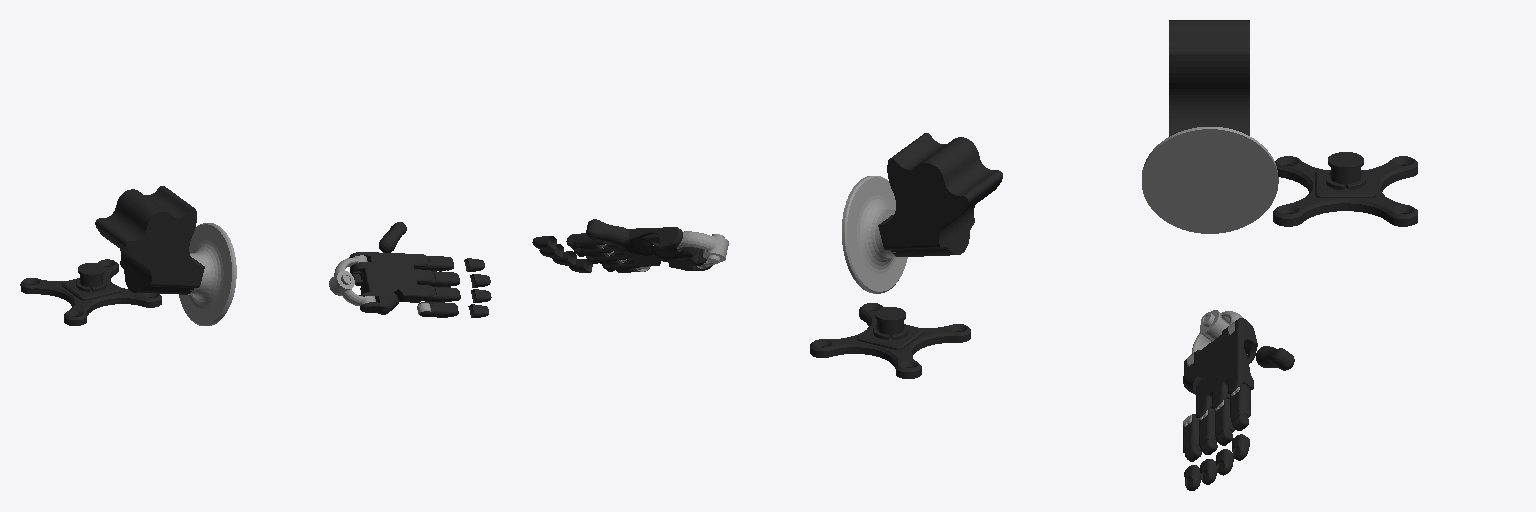
--- Facts derived from the render (not from the file) ---
3 views of the same robot in one strip: view 1: azimuth 30°, elevation 25°; view 2: azimuth 150°, elevation 25°; view 3: azimuth 270°, elevation 25° (orthographic).
Robot: arm_and_hand — 36 links, 35 joints (28 revolute, 7 fixed); root link world; default pose: all joints at 0 but 1 set to mid-range because 0 is outside their limits (ElbowJSwing = 1.31).
Visible links, largest first — view 1: shadowarm_lowerarm, shadowarm_handsupport, palm, shadowarm_base, wrist; view 2: shadowarm_lowerarm, shadowarm_handsupport, shadowarm_base, palm, wrist, thmiddle; view 3: shadowarm_handsupport, shadowarm_lowerarm, shadowarm_base, palm, wrist, ffproximal, thmiddle, mfproximal, rfproximal, lfproximal.
Link boxes in pixels (<box>): shadowarm_lowerarm: <box>95,186,204,294</box>; shadowarm_handsupport: <box>179,223,236,325</box>; palm: <box>349,252,434,314</box>; shadowarm_base: <box>20,259,161,325</box>; wrist: <box>329,255,375,305</box>; shadowarm_lowerarm: <box>878,133,1002,256</box>; shadowarm_handsupport: <box>842,176,907,293</box>; shadowarm_base: <box>810,303,970,378</box>; palm: <box>603,227,712,270</box>; wrist: <box>677,231,728,268</box>; thmiddle: <box>586,219,630,245</box>; shadowarm_handsupport: <box>1142,127,1278,233</box>; shadowarm_lowerarm: <box>1169,20,1249,136</box>; shadowarm_base: <box>1273,152,1417,226</box>; palm: <box>1183,318,1257,417</box>; wrist: <box>1187,310,1242,365</box>; ffproximal: <box>1230,383,1250,430</box>; thmiddle: <box>1256,346,1294,370</box>; mfproximal: <box>1215,398,1234,445</box>; rfproximal: <box>1199,407,1217,454</box>; lfproximal: <box>1183,414,1201,461</box>.
Bounding box of the posed robot: 0.6026 × 0.2728 × 0.2757 m (x, y, z).
18 mesh visuals loaded from 16 distinct referenced files (9 Collada DAE); not drawn: 10 (reference not matched to a file when rendering).

robot.urdf — arm_and_hand:
<?xml version="1.0" ?>
<!-- =================================================================================== -->
<!-- |    This document was autogenerated by xacro from src/srsim/sr_description/robots/arm_and_hand_motor.urdf.xacro | -->
<!-- |    EDITING THIS FILE BY HAND IS NOT RECOMMENDED                                 | -->
<!-- =================================================================================== -->
<robot name="arm_and_hand" xmlns:body="http://playerstage.sourceforge.net/gazebo/xmlschema/#body" xmlns:controller="http://playerstage.sourceforge.net/gazebo/xmlschema/#controller" xmlns:geom="http://playerstage.sourceforge.net/gazebo/xmlschema/#geom" xmlns:interface="http://playerstage.sourceforge.net/gazebo/xmlschema/#interface" xmlns:joint="http://playerstage.sourceforge.net/gazebo/xmlschema/#slider" xmlns:sensor="http://playerstage.sourceforge.net/gazebo/xmlschema/#sensor" xmlns:xacro="http://ros.org/wiki/xacro">
  <material name="Blue">
    <color rgba="0.0 0.0 0.8 1.0"/>
  </material>
  <material name="Green">
    <color rgba="0.0 0.8 0.0 1.0"/>
  </material>
  <material name="BiotacGreen">
    <color rgba="0.31 0.85 0.42 1.0"/>
  </material>
  <material name="Grey">
    <color rgba="0.2 0.2 0.2 1.0"/>
  </material>
  <material name="LightGrey">
    <color rgba="0.6 0.6 0.6 1.0"/>
  </material>
  <material name="Red">
    <color rgba="0.8 0.0 0.0 1.0"/>
  </material>
  <material name="White">
    <color rgba="1.0 1.0 1.0 1.0"/>
  </material>
  <link name="world"/>
  <joint name="arm_to_world_fixed" type="fixed">
    <parent link="world"/>
    <child link="shadowarm_base"/>
    <origin rpy="0 0 0" xyz="0 -1 1.0"/>
  </joint>
  <link name="shadowarm_base">
    <inertial>
      <origin rpy="0 0 0" xyz="0 0 0.0"/>
      <mass value="0.4"/>
      <inertia ixx="0.001" ixy="0.0" ixz="0.0" iyy="0.001" iyz="0.0" izz="0.001"/>
    </inertial>
    <visual>
      <origin rpy="0 0 0" xyz="0 0 0"/>
      <geometry name="shadowarm_visual">
        <mesh filename="package://sr_description/arm/model/arm_base.dae" scale="0.001 0.001 0.001"/>
      </geometry>
      <material name="Grey"/>
    </visual>
    <collision>
      <origin rpy="0 0 0" xyz="0 0 0.0"/>
      <geometry name="shadowarm_collision_geom">
        <mesh filename="package://sr_description/arm/model/arm_base.dae" scale="0.001 0.001 0.001"/>
      </geometry>
    </collision>
  </link>
  <gazebo reference="shadowarm_base">
    <material>Gazebo/Grey</material>
    <selfCollide>false</selfCollide>
  </gazebo>
  <link name="shadowarm_trunk">
    <inertial>
      <origin rpy="0 0 0" xyz="0 0 0.0"/>
      <mass value="0.5"/>
      <inertia ixx="0.001" ixy="0.0" ixz="0.0" iyy="0.001" iyz="0.0" izz="0.001"/>
    </inertial>
    <visual>
      <origin rpy="0 0 0" xyz="0 0 0.005"/>
      <geometry name="shadowarm_visual">
        <mesh filename="package://sr_description/arm/model/arm_trunk.dae" scale="0.001 0.001 0.001"/>
      </geometry>
      <material name="Grey"/>
    </visual>
    <collision>
      <origin rpy="0 0 0" xyz="0 0 0.005"/>
      <geometry name="shadowarm_collision_geom">
        <mesh filename="package://sr_description/arm/model/arm_trunk.dae" scale="0.001 0.001 0.001"/>
      </geometry>
    </collision>
  </link>
  <gazebo reference="shadowarm_trunk">
    <material>LightGrey</material>
    <selfCollide>false</selfCollide>
  </gazebo>
  <joint name="ShoulderJRotate" type="revolute">
    <parent link="shadowarm_base"/>
    <child link="shadowarm_trunk"/>
    <origin rpy="0.0 0.0 0.0" xyz="0 0 0.01"/>
    <axis xyz="0 0 1"/>
    <limit effort="1000.0" lower="-0.785398163397" upper="1.57079632679" velocity="10.0"/>
    <dynamics damping="30.0"/>
  </joint>
  <gazebo reference="ShoulderJRotate">
    <provideFeedback>1</provideFeedback>
    <implicitSpringDamper>1</implicitSpringDamper>
  </gazebo>
  <transmission name="trunk_rotation_transmission" type="sr_mechanism_model/SimpleTransmission">
    <actuator name="trunk_rotation"/>
    <joint name="ShoulderJRotate"/>
    <mechanicalReduction>1</mechanicalReduction>
    <motorTorqueConstant>1</motorTorqueConstant>
    <pulsesPerRevolution>90000</pulsesPerRevolution>
  </transmission>
  <link name="shadowarm_upperarm">
    <inertial>
      <origin rpy="0 0 0" xyz="0 0 0.0"/>
      <mass value="0.5"/>
      <inertia ixx="0.0001" ixy="0.0" ixz="0.0" iyy="0.0001" iyz="0.0" izz="0.0001"/>
    </inertial>
    <visual>
      <origin rpy="0 0 0" xyz="0 0.067 0"/>
      <geometry name="shadowarm_visual">
        <mesh filename="package://sr_description/arm/model/upper_arm.dae" scale="0.001 0.001 0.001"/>
      </geometry>
      <material name="Grey"/>
    </visual>
    <collision>
      <origin rpy="0 0 0" xyz="0 0.067 0"/>
      <geometry name="shadowarm_collision_geom">
        <mesh filename="package://sr_description/arm/model/upper_arm.dae" scale="0.001 0.001 0.001"/>
      </geometry>
    </collision>
  </link>
  <gazebo reference="shadowarm_upperarm">
    <material>LightGrey</material>
    <selfCollide>false</selfCollide>
  </gazebo>
  <joint name="ShoulderJSwing" type="revolute">
    <parent link="shadowarm_trunk"/>
    <child link="shadowarm_upperarm"/>
    <origin rpy="0 -3.14159265359 0.0" xyz="0 -0.134 0.5305"/>
    <!-- yaw=-0.026 -->
    <axis xyz="0 -1 0"/>
    <limit effort="1000.0" lower="0" upper="1.57079632679" velocity="10.0"/>
    <dynamics damping="30.0"/>
  </joint>
  <gazebo reference="ShoulderJSwing">
    <provideFeedback>1</provideFeedback>
    <implicitSpringDamper>1</implicitSpringDamper>
  </gazebo>
  <transmission name="shoulder_rotation_transmission" type="sr_mechanism_model/SimpleTransmission">
    <actuator name="shoulder_rotation"/>
    <joint name="ShoulderJSwing"/>
    <mechanicalReduction>1</mechanicalReduction>
    <motorTorqueConstant>1</motorTorqueConstant>
    <pulsesPerRevolution>90000</pulsesPerRevolution>
  </transmission>
  <link name="shadowarm_lowerarm">
    <inertial>
      <origin rpy="0 0 0" xyz="0 0 0"/>
      <mass value="0.5"/>
      <inertia ixx="0.0001" ixy="0.0" ixz="0.0" iyy="0.0001" iyz="0.0" izz="0.0001"/>
    </inertial>
    <visual>
      <origin rpy="0 0 0" xyz="0.03 0 0.036"/>
      <geometry name="shadowarm_visual">
        <mesh filename="package://sr_description/arm/model/elbow_flex.dae" scale="0.001 0.001 0.001"/>
      </geometry>
      <material name="Grey"/>
    </visual>
    <collision>
      <origin rpy="0 0 0" xyz="0.03 0 0.036"/>
      <geometry name="shadowarm_collision_geom">
        <mesh filename="package://sr_description/arm/model/elbow_flex.dae" scale="0.001 0.001 0.001"/>
      </geometry>
    </collision>
  </link>
  <gazebo reference="shadowarm_lowerarm">
    <material>LightGrey</material>
    <selfCollide>false</selfCollide>
  </gazebo>
  <joint name="ElbowJSwing" type="revolute">
    <parent link="shadowarm_upperarm"/>
    <child link="shadowarm_lowerarm"/>
    <origin rpy="0 0 0" xyz="0 0 0.369"/>
    <axis xyz="0 -1 0"/>
    <limit effort="1000.0" lower="0.52" upper="2.09439510239" velocity="10.0"/>
    <dynamics damping="20.0"/>
  </joint>
  <gazebo reference="ElbowJSwing">
    <provideFeedback>1</provideFeedback>
    <implicitSpringDamper>1</implicitSpringDamper>
  </gazebo>
  <transmission name="elbow_abduction_transmission" type="sr_mechanism_model/SimpleTransmission">
    <actuator name="elbow_abduction"/>
    <joint name="ElbowJSwing"/>
    <mechanicalReduction>1</mechanicalReduction>
    <motorTorqueConstant>1</motorTorqueConstant>
    <pulsesPerRevolution>90000</pulsesPerRevolution>
  </transmission>
  <link name="shadowarm_handsupport">
    <inertial>
      <origin rpy="0 0 0" xyz="0 0 0"/>
      <mass value="0.75"/>
      <inertia ixx="0.0001" ixy="0.0" ixz="0.0" iyy="0.0001" iyz="0.0" izz="0.0001"/>
    </inertial>
    <visual>
      <origin rpy="0 0 0" xyz="0 0 -0.04"/>
      <geometry name="shadowarm_handsupport_visual">
        <mesh filename="package://sr_description/arm/model/elbow_rotate_motor.dae" scale="0.001 0.001 0.001"/>
      </geometry>
      <material name="LightGrey"/>
    </visual>
    <collision>
      <origin rpy="0 0 0" xyz="0 0 -0.005"/>
      <geometry name="shadowarm_handsupport_collision">
        <cylinder length="0.001" radius="0.06"/>
      </geometry>
    </collision>
  </link>
  <gazebo reference="shadowarm_handsupport">
    <material>Gazebo/Grey</material>
    <selfCollide>false</selfCollide>
  </gazebo>
  <joint name="ElbowJRotate" type="revolute">
    <parent link="shadowarm_lowerarm"/>
    <child link="shadowarm_handsupport"/>
    <origin rpy="0.0 0 0" xyz="0.08 0 0.125"/>
    <axis xyz="0 0 -1"/>
    <limit effort="1000.0" lower="-1.57079632679" upper="1.57079632679" velocity="10.0"/>
    <dynamics damping="30.0"/>
  </joint>
  <gazebo reference="ElbowJRotate">
    <provideFeedback>1</provideFeedback>
    <implicitSpringDamper>1</implicitSpringDamper>
  </gazebo>
  <transmission name="forearm_rotation_transmission" type="sr_mechanism_model/SimpleTransmission">
    <actuator name="forearm_rotation"/>
    <joint name="ElbowJRotate"/>
    <mechanicalReduction>1</mechanicalReduction>
    <motorTorqueConstant>1</motorTorqueConstant>
    <pulsesPerRevolution>90000</pulsesPerRevolution>
  </transmission>
  <joint name="arm_link" type="fixed">
    <parent link="shadowarm_handsupport"/>
    <child link="forearm"/>
    <origin rpy="0 0 2.35619449" xyz="0 0 0"/>
  </joint>
  <link name="forearm">
    <inertial>
      <origin rpy="0 0 0" xyz="0 0 0.09"/>
      <mass value="3.0"/>
      <inertia ixx="0.001" ixy="0.0" ixz="0.0" iyy="0.001" iyz="0.0" izz="0.001"/>
    </inertial>
    <visual>
      <origin rpy="0 0 0" xyz="0 0 0"/>
      <geometry name="shadow_forearm_geom">
        <mesh filename="package://sr_description/hand/model/forearm.dae" scale="0.001 0.001 0.001"/>
      </geometry>
      <material name="Grey"/>
    </visual>
    <collision>
      <origin rpy="0 0 0" xyz="0 0 0.09"/>
      <geometry name="shadow_forearm_collision">
        <cylinder length="0.180" radius="0.06"/>
      </geometry>
    </collision>
  </link>
  <gazebo reference="forearm">
    <material>LightGrey</material>
    <selfCollide>false</selfCollide>
  </gazebo>
  <link name="wrist">
    <inertial>
      <origin rpy="0 0 0" xyz="0 0.0 0.0"/>
      <!--<insert_block name="origin" />-->
      <mass value="0.1"/>
      <inertia ixx="0.000120" ixy="0.0" ixz="0.0" iyy="0.000148" iyz="0.0" izz="0.0000438"/>
    </inertial>
    <visual>
      <origin rpy="0 0 0" xyz="0 0 0"/>
      <geometry name="wrist_visual">
        <mesh filename="package://sr_description/hand/model/wrist.dae" scale="0.001 0.001 0.001"/>
      </geometry>
      <material name="LightGrey"/>
    </visual>
    <collision>
      <origin rpy="0 0 0" xyz="0 0 0"/>
      <geometry name="wrist_collision_geom">
        <box size="0.02 0.02 0.02"/>
      </geometry>
    </collision>
  </link>
  <gazebo reference="wrist">
    <material>PR2/Grey2</material>
    <selfCollide>false</selfCollide>
  </gazebo>
  <joint name="WRJ2" type="revolute">
    <parent link="forearm"/>
    <child link="wrist"/>
    <!--<origin xyz="0 -0.010 0.213" rpy="0 0 0" />-->
    <origin rpy="0 0 0" xyz="0 -0.010 0.213"/>
    <axis xyz="0 1 0"/>
    <limit effort="1000.0" lower="-0.52359877559829882" upper="0.17453292519943295" velocity="10.0"/>
    <dynamics damping="30.0"/>
  </joint>
  <gazebo reference="WRJ2">
    <provideFeedback>1</provideFeedback>
    <implicitSpringDamper>1</implicitSpringDamper>
  </gazebo>
  <transmission name="wrist_transmission" type="sr_mechanism_model/SimpleTransmission">
    <actuator name="WRJ2"/>
    <joint name="WRJ2"/>
    <mechanicalReduction>1</mechanicalReduction>
    <motorTorqueConstant>1</motorTorqueConstant>
    <pulsesPerRevolution>90000</pulsesPerRevolution>
  </transmission>
  <link name="palm">
    <inertial>
      <origin rpy="0 0 0" xyz="0 0 0.035"/>
      <mass value="0.3"/>
      <inertia ixx="0.0001" ixy="0.0" ixz="0.0" iyy="0.0002" iyz="0.0" izz="0.0001"/>
    </inertial>
    <visual>
      <origin rpy="0 0 0" xyz="0 0 0"/>
      <geometry name="palm_visual">
        <mesh filename="package://sr_description/hand/model/palm.dae" scale="0.001 0.001 0.001"/>
      </geometry>
      <material name="Grey"/>
    </visual>
    <collision>
      <origin rpy="0 0 0" xyz="0.005 0 0.035"/>
      <geometry name="palm_collision_geom">
        <box size="0.05 0.02 0.07"/>
      </geometry>
    </collision>
  </link>
  <gazebo reference="palm">
    <sensor name="palm_contact" type="contact">
      <always_on>1</always_on>
      <update_rate>1000.0</update_rate>
      <contact>
        <collision>palm_collision</collision>
        <topic>palm_collision</topic>
      </contact>
      <plugin filename="libgazebo_ros_bumper.so" name="palm_gazebo_ros_bumper_controller">
        <updateRate>100.0</updateRate>
        <frameName>palm</frameName>
        <bumperTopicName>contacts/palm</bumperTopicName>
      </plugin>
    </sensor>
    <material>LightGrey</material>
  </gazebo>
  <joint name="WRJ1" type="revolute">
    <parent link="wrist"/>
    <child link="palm"/>
    <origin rpy="0 0 0" xyz="0 0 0.034"/>
    <axis xyz="1 0 0"/>
    <limit effort="1000.0" lower="-0.7854" upper="0.5236" velocity="10.0"/>
    <dynamics damping="30.0"/>
  </joint>
  <gazebo reference="WRJ1">
    <provideFeedback>1</provideFeedback>
    <implicitSpringDamper>1</implicitSpringDamper>
  </gazebo>
  <gazebo reference="palm">
    <soft_contact>
      <dart>
        <flesh_mass_fraction>0.5</flesh_mass_fraction>
        <bone_attachment>500.0</bone_attachment>
        <stiffness>0.0</stiffness>
        <damping>5.0</damping>
      </dart>
    </soft_contact>
  </gazebo>
  <transmission name="palm_transmission" type="sr_mechanism_model/SimpleTransmission">
    <actuator name="WRJ1"/>
    <joint name="WRJ1"/>
    <mechanicalReduction>1</mechanicalReduction>
    <motorTorqueConstant>1</motorTorqueConstant>
    <pulsesPerRevolution>90000</pulsesPerRevolution>
  </transmission>
  <link name="ffknuckle">
    <inertial>
      <origin rpy="0 0 0" xyz="0 0 0"/>
      <!--<insert_block name="origin" /> -->
      <mass value="0.008"/>
      <inertia ixx="0.0000002" ixy="0.0" ixz="0.0" iyy="0.0000002" iyz="0.0" izz="0.0000002"/>
    </inertial>
    <visual>
      <origin rpy="0 0 0" xyz="0 0 0.0005"/>
      <geometry name="ffknuckle_visual">
        <mesh filename="package://sr_description/hand/model/knuckle.dae" scale="0.001 0.001 0.001"/>
      </geometry>
      <material name="LightGrey"/>
    </visual>
    <collision>
      <origin rpy="0 0 0" xyz="0 0 0"/>
      <geometry name="ffknuckle_collision_geom">
        <box size="0.005 0.005 0.005"/>
      </geometry>
    </collision>
  </link>
  <gazebo reference="ffknuckle">
    <sensor name="ffknuckle_contact" type="contact">
      <always_on>1</always_on>
      <update_rate>1000.0</update_rate>
      <contact>
        <collision>ffknuckle_collision</collision>
        <topic>ffknuckle_collision</topic>
      </contact>
      <plugin filename="libgazebo_ros_bumper.so" name="ffknuckle_gazebo_ros_bumper_controller">
        <updateRate>100.0</updateRate>
        <frameName>ffknuckle</frameName>
        <bumperTopicName>contacts/ff/knuckle</bumperTopicName>
      </plugin>
    </sensor>
    <material>Gazebo/Grey</material>
  </gazebo>
  <joint name="FFJ4" type="revolute">
    <parent link="palm"/>
    <child link="ffknuckle"/>
    <!--<origin xyz="0.033 0 0.095" rpy="0 0 0" />-->
    <origin rpy="0 0 0" xyz="0.033 0 0.095"/>
    <axis xyz="0 -1 0"/>
    <limit effort="1000.0" lower="-0.3491" upper="0.3491" velocity="10.0"/>
    <dynamics damping="10.0"/>
  </joint>
  <gazebo reference="FFJ4">
    <provideFeedback>1</provideFeedback>
    <implicitSpringDamper>1</implicitSpringDamper>
  </gazebo>
  <transmission name="ffknuckle_transmission" type="sr_mechanism_model/SimpleTransmission">
    <actuator name="FFJ4"/>
    <joint name="FFJ4"/>
    <mechanicalReduction>1</mechanicalReduction>
    <motorTorqueConstant>1</motorTorqueConstant>
    <pulsesPerRevolution>90000</pulsesPerRevolution>
  </transmission>
  <link name="ffproximal">
    <inertial>
      <mass value="0.014"/>
      <origin xyz="0 0 0.0225"/>
      <inertia ixx="0.0000010" ixy="0.0" ixz="0.0" iyy="0.0000010" iyz="0.0" izz="0.0000005"/>
    </inertial>
    <visual>
      <origin rpy="0 0 0" xyz="0 0 0"/>
      <geometry name="proximal_visual">
        <mesh filename="package://sr_description/hand/model/F3.dae" scale="0.001 0.001 0.001"/>
      </geometry>
      <material name="Grey"/>
    </visual>
    <collision>
      <origin rpy="0 0 0 " xyz="0 0 0.025"/>
      <geometry name="proximal_collision_geom">
        <box size="0.008 0.008 0.04"/>
      </geometry>
    </collision>
  </link>
  <gazebo reference="ffproximal">
    <sensor name="ffproximal_contact" type="contact">
      <always_on>1</always_on>
      <update_rate>1000.0</update_rate>
      <contact>
        <collision>ffproximal_collision</collision>
        <topic>ffproximal_collision</topic>
      </contact>
      <plugin filename="libgazebo_ros_bumper.so" name="ffproximal_gazebo_ros_bumper_controller">
        <updateRate>100.0</updateRate>
        <frameName>ffproximal</frameName>
        <bumperTopicName>contacts/ff/proximal</bumperTopicName>
      </plugin>
    </sensor>
    <material>LightGrey</material>
  </gazebo>
  <joint name="FFJ3" type="revolute">
    <parent link="ffknuckle"/>
    <child link="ffproximal"/>
    <origin rpy="0 0 0" xyz="0 0 0"/>
    <axis xyz="1 0 0"/>
    <limit effort="1000.0" lower="0" upper="1.57079632679" velocity="10.0"/>
    <dynamics damping="10.0"/>
  </joint>
  <gazebo reference="FFJ3">
    <provideFeedback>1</provideFeedback>
    <implicitSpringDamper>1</implicitSpringDamper>
  </gazebo>
  <transmission name="ffproximal_transmission" type="sr_mechanism_model/SimpleTransmission">
    <actuator name="FFJ3"/>
    <joint name="FFJ3"/>
    <mechanicalReduction>1</mechanicalReduction>
    <motorTorqueConstant>1</motorTorqueConstant>
    <pulsesPerRevolution>90000</pulsesPerRevolution>
  </transmission>
  <link name="ffmiddle">
    <inertial>
      <origin rpy="0 0 0" xyz="0 0 0.0125"/>
      <mass value="0.012"/>
      <inertia ixx="0.0000008" ixy="0.0" ixz="0.0" iyy="0.0000008" iyz="0.0" izz="0.0000003"/>
    </inertial>
    <visual>
      <origin rpy="0 0 0" xyz="0 0 0"/>
      <geometry name="ffmiddle_visual">
        <mesh filename="package://sr_description/hand/model/F2.dae" scale="0.001 0.001 0.001"/>
      </geometry>
      <material name="Grey"/>
    </visual>
    <collision>
      <origin rpy="0 0 0" xyz="0 0 0.0125"/>
      <geometry name="ffmiddle_collision_geom">
        <box size="0.008 0.008 0.015"/>
      </geometry>
    </collision>
  </link>
  <gazebo reference="ffmiddle">
    <sensor name="ffmiddle_contact" type="contact">
      <always_on>1</always_on>
      <update_rate>1000.0</update_rate>
      <contact>
        <collision>ffmiddle_collision</collision>
        <topic>ffmiddle_collision</topic>
      </contact>
      <plugin filename="libgazebo_ros_bumper.so" name="ffmiddle_gazebo_ros_bumper_controller">
        <updateRate>100.0</updateRate>
        <frameName>ffmiddle</frameName>
        <bumperTopicName>contacts/ff/middle</bumperTopicName>
      </plugin>
    </sensor>
    <material>LightGrey</material>
  </gazebo>
  <joint name="FFJ2" type="revolute">
    <parent link="ffproximal"/>
    <child link="ffmiddle"/>
    <origin rpy="0 0 0" xyz="0 0 0.045"/>
    <axis xyz="1 0 0"/>
    <limit effort="1000.0" lower="0" upper="1.57079632679" velocity="10.0"/>
    <dynamics damping="10.0"/>
  </joint>
  <gazebo reference="FFJ2">
    <provideFeedback>1</provideFeedback>
    <implicitSpringDamper>1</implicitSpringDamper>
  </gazebo>
  <transmission name="ffmiddle_transmission" type="sr_mechanism_model/J0Transmission">
    <actuator name="FFJ0"/>
    <joint1 name="FFJ1"/>
    <joint2 name="FFJ2"/>
    <mechanicalReduction>1</mechanicalReduction>
    <motorTorqueConstant>1</motorTorqueConstant>
    <pulsesPerRevolution>90000</pulsesPerRevolution>
  </transmission>
  <link name="ffdistal">
    <inertial>
      <mass value="0.010"/>
      <origin xyz="0 0 0.013"/>
      <inertia ixx="0.0000001" ixy="0.0" ixz="0.0" iyy="0.0000001" iyz="0.0" izz="0.0000001"/>
    </inertial>
    <visual>
      <origin rpy="0 0 0" xyz="0 0 0"/>
      <geometry name="ffdistal_visual">
        <mesh filename="package://sr_description/hand/model/F1.dae" scale="0.001 0.001 0.001"/>
      </geometry>
      <material name="Grey"/>
    </visual>
    <collision>
      <origin rpy="0 0 0" xyz="0 0 0"/>
      <geometry name="ffdistal_collision_geom">
        <mesh filename="package://sr_description/hand/model/F1.dae" scale="0.001 0.001 0.001"/>
      </geometry>
    </collision>
  </link>
  <gazebo reference="ffdistal">
    <sensor name="ffdistal_contact" type="contact">
      <always_on>1</always_on>
      <update_rate>1000.0</update_rate>
      <contact>
        <collision>ffdistal_collision</collision>
        <topic>ffdistal_collision</topic>
      </contact>
      <plugin filename="libgazebo_ros_bumper.so" name="ffdistal_gazebo_ros_bumper_controller">
        <updateRate>100.0</updateRate>
        <frameName>ffdistal</frameName>
        <bumperTopicName>contacts/ff/distal</bumperTopicName>
      </plugin>
    </sensor>
    <selfCollide>true</selfCollide>
    <material>LightGrey</material>
  </gazebo>
  <joint name="FFJ1" type="revolute">
    <parent link="ffmiddle"/>
    <child link="ffdistal"/>
    <origin rpy="0 0 0" xyz="0 0 0.025"/>
    <axis xyz="1 0 0"/>
    <limit effort="1000.0" lower="0" upper="1.57079632679" velocity="10.0"/>
    <dynamics damping="10.0"/>
  </joint>
  <gazebo reference="FFJ1">
    <provideFeedback>1</provideFeedback>
    <implicitSpringDamper>1</implicitSpringDamper>
  </gazebo>
  <link name="fftip">
    <inertial>
      <mass value="0.001"/>
      <inertia ixx="0.0000001" ixy="0.0" ixz="0.0" iyy="0.0000001" iyz="0.0" izz="0.0000001"/>
    </inertial>
  </link>
  <joint name="FFtip" type="fixed">
    <parent link="ffdistal"/>
    <child link="fftip"/>
    <origin rpy="0 0 0" xyz="0 0 0.026"/>
  </joint>
  <link name="mfknuckle">
    <inertial>
      <origin rpy="0 0 0" xyz="0 0 0"/>
      <!--<insert_block name="origin" /> -->
      <mass value="0.008"/>
      <inertia ixx="0.0000002" ixy="0.0" ixz="0.0" iyy="0.0000002" iyz="0.0" izz="0.0000002"/>
    </inertial>
    <visual>
      <origin rpy="0 0 0" xyz="0 0 0.0005"/>
      <geometry name="mfknuckle_visual">
        <mesh filename="package://sr_description/hand/model/knuckle.dae" scale="0.001 0.001 0.001"/>
      </geometry>
      <material name="LightGrey"/>
    </visual>
    <collision>
      <origin rpy="0 0 0" xyz="0 0 0"/>
      <geometry name="mfknuckle_collision_geom">
        <box size="0.005 0.005 0.005"/>
      </geometry>
    </collision>
  </link>
  <gazebo reference="mfknuckle">
    <sensor name="mfknuckle_contact" type="contact">
      <always_on>1</always_on>
      <update_rate>1000.0</update_rate>
      <contact>
        <collision>mfknuckle_collision</collision>
        <topic>mfknuckle_collision</topic>
      </contact>
      <plugin filename="libgazebo_ros_bumper.so" name="mfknuckle_gazebo_ros_bumper_controller">
        <updateRate>100.0</updateRate>
        <frameName>mfknuckle</frameName>
        <bumperTopicName>contacts/mf/knuckle</bumperTopicName>
      </plugin>
    </sensor>
    <material>Gazebo/Grey</material>
  </gazebo>
  <joint name="MFJ4" type="revolute">
    <parent link="palm"/>
    <child link="mfknuckle"/>
    <!--<origin xyz="0.033 0 0.095" rpy="0 0 0" />-->
    <origin rpy="0 0 0" xyz="0.011 0 0.099"/>
    <axis xyz="0 -1 0"/>
    <limit effort="1000.0" lower="-0.3491" upper="0.3491" velocity="10.0"/>
    <dynamics damping="10.0"/>
  </joint>
  <gazebo reference="MFJ4">
    <provideFeedback>1</provideFeedback>
    <implicitSpringDamper>1</implicitSpringDamper>
  </gazebo>
  <transmission name="mfknuckle_transmission" type="sr_mechanism_model/SimpleTransmission">
    <actuator name="MFJ4"/>
    <joint name="MFJ4"/>
    <mechanicalReduction>1</mechanicalReduction>
    <motorTorqueConstant>1</motorTorqueConstant>
    <pulsesPerRevolution>90000</pulsesPerRevolution>
  </transmission>
  <link name="mfproximal">
    <inertial>
      <mass value="0.014"/>
      <origin xyz="0 0 0.0225"/>
      <inertia ixx="0.0000010" ixy="0.0" ixz="0.0" iyy="0.0000010" iyz="0.0" izz="0.0000005"/>
    </inertial>
    <visual>
      <origin rpy="0 0 0" xyz="0 0 0"/>
      <geometry name="proximal_visual">
        <mesh filename="package://sr_description/hand/model/F3.dae" scale="0.001 0.001 0.001"/>
      </geometry>
      <material name="Grey"/>
    </visual>
    <collision>
      <origin rpy="0 0 0 " xyz="0 0 0.025"/>
      <geometry name="proximal_collision_geom">
        <box size="0.008 0.008 0.04"/>
      </geometry>
    </collision>
  </link>
  <gazebo reference="mfproximal">
    <sensor name="mfproximal_contact" type="contact">
      <always_on>1</always_on>
      <update_rate>1000.0</update_rate>
      <contact>
        <collision>mfproximal_collision</collision>
        <topic>mfproximal_collision</topic>
      </contact>
      <plugin filename="libgazebo_ros_bumper.so" name="mfproximal_gazebo_ros_bumper_controller">
        <updateRate>100.0</updateRate>
        <frameName>mfproximal</frameName>
        <bumperTopicName>contacts/mf/proximal</bumperTopicName>
      </plugin>
    </sensor>
    <material>LightGrey</material>
  </gazebo>
  <joint name="MFJ3" type="revolute">
    <parent link="mfknuckle"/>
    <child link="mfproximal"/>
    <origin rpy="0 0 0" xyz="0 0 0"/>
    <axis xyz="1 0 0"/>
    <limit effort="1000.0" lower="0" upper="1.57079632679" velocity="10.0"/>
    <dynamics damping="10.0"/>
  </joint>
  <gazebo reference="MFJ3">
    <provideFeedback>1</provideFeedback>
    <implicitSpringDamper>1</implicitSpringDamper>
  </gazebo>
  <transmission name="mfproximal_transmission" type="sr_mechanism_model/SimpleTransmission">
    <actuator name="MFJ3"/>
    <joint name="MFJ3"/>
    <mechanicalReduction>1</mechanicalReduction>
    <motorTorqueConstant>1</motorTorqueConstant>
    <pulsesPerRevolution>90000</pulsesPerRevolution>
  </transmission>
  <link name="mfmiddle">
    <inertial>
      <origin rpy="0 0 0" xyz="0 0 0.0125"/>
      <mass value="0.012"/>
      <inertia ixx="0.0000008" ixy="0.0" ixz="0.0" iyy="0.0000008" iyz="0.0" izz="0.0000003"/>
    </inertial>
    <visual>
      <origin rpy="0 0 0" xyz="0 0 0"/>
      <geometry name="mfmiddle_visual">
        <mesh filename="package://sr_description/hand/model/F2.dae" scale="0.001 0.001 0.001"/>
      </geometry>
      <material name="Grey"/>
    </visual>
    <collision>
      <origin rpy="0 0 0" xyz="0 0 0.0125"/>
      <geometry name="mfmiddle_collision_geom">
        <box size="0.008 0.008 0.015"/>
      </geometry>
    </collision>
  </link>
  <gazebo reference="mfmiddle">
    <sensor name="mfmiddle_contact" type="contact">
      <always_on>1</always_on>
      <update_rate>1000.0</update_rate>
      <contact>
        <collision>mfmiddle_collision</collision>
        <topic>mfmiddle_collision</topic>
      </contact>
      <plugin filename="libgazebo_ros_bumper.so" name="mfmiddle_gazebo_ros_bumper_controller">
        <updateRate>100.0</updateRate>
        <frameName>mfmiddle</frameName>
        <bumperTopicName>contacts/mf/middle</bumperTopicName>
      </plugin>
    </sensor>
    <material>LightGrey</material>
  </gazebo>
  <joint name="MFJ2" type="revolute">
    <parent link="mfproximal"/>
    <child link="mfmiddle"/>
    <origin rpy="0 0 0" xyz="0 0 0.045"/>
    <axis xyz="1 0 0"/>
    <limit effort="1000.0" lower="0" upper="1.57079632679" velocity="10.0"/>
    <dynamics damping="10.0"/>
  </joint>
  <gazebo reference="MFJ2">
    <provideFeedback>1</provideFeedback>
    <implicitSpringDamper>1</implicitSpringDamper>
  </gazebo>
  <transmission name="mfmiddle_transmission" type="sr_mechanism_model/J0Transmission">
    <actuator name="MFJ0"/>
    <joint1 name="MFJ1"/>
    <joint2 name="MFJ2"/>
    <mechanicalReduction>1</mechanicalReduction>
    <motorTorqueConstant>1</motorTorqueConstant>
    <pulsesPerRevolution>90000</pulsesPerRevolution>
  </transmission>
  <link name="mfdistal">
    <inertial>
      <mass value="0.010"/>
      <origin xyz="0 0 0.013"/>
      <inertia ixx="0.0000001" ixy="0.0" ixz="0.0" iyy="0.0000001" iyz="0.0" izz="0.0000001"/>
    </inertial>
    <visual>
      <origin rpy="0 0 0" xyz="0 0 0"/>
      <geometry name="mfdistal_visual">
        <mesh filename="package://sr_description/hand/model/F1.dae" scale="0.001 0.001 0.001"/>
      </geometry>
      <material name="Grey"/>
    </visual>
    <collision>
      <origin rpy="0 0 0" xyz="0 0 0"/>
      <geometry name="mfdistal_collision_geom">
        <mesh filename="package://sr_description/hand/model/F1.dae" scale="0.001 0.001 0.001"/>
      </geometry>
    </collision>
  </link>
  <gazebo reference="mfdistal">
    <sensor name="mfdistal_contact" type="contact">
      <always_on>1</always_on>
      <update_rate>1000.0</update_rate>
      <contact>
        <collision>mfdistal_collision</collision>
        <topic>mfdistal_collision</topic>
      </contact>
      <plugin filename="libgazebo_ros_bumper.so" name="mfdistal_gazebo_ros_bumper_controller">
        <updateRate>100.0</updateRate>
        <frameName>mfdistal</frameName>
        <bumperTopicName>contacts/mf/distal</bumperTopicName>
      </plugin>
    </sensor>
    <selfCollide>true</selfCollide>
    <material>LightGrey</material>
  </gazebo>
  <joint name="MFJ1" type="revolute">
    <parent link="mfmiddle"/>
    <child link="mfdistal"/>
    <origin rpy="0 0 0" xyz="0 0 0.025"/>
    <axis xyz="1 0 0"/>
    <limit effort="1000.0" lower="0" upper="1.57079632679" velocity="10.0"/>
    <dynamics damping="10.0"/>
  </joint>
  <gazebo reference="MFJ1">
    <provideFeedback>1</provideFeedback>
    <implicitSpringDamper>1</implicitSpringDamper>
  </gazebo>
  <link name="mftip">
    <inertial>
      <mass value="0.001"/>
      <inertia ixx="0.0000001" ixy="0.0" ixz="0.0" iyy="0.0000001" iyz="0.0" izz="0.0000001"/>
    </inertial>
  </link>
  <joint name="MFtip" type="fixed">
    <parent link="mfdistal"/>
    <child link="mftip"/>
    <origin rpy="0 0 0" xyz="0 0 0.026"/>
  </joint>
  <link name="rfknuckle">
    <inertial>
      <origin rpy="0 0 0" xyz="0 0 0"/>
      <!--<insert_block name="origin" /> -->
      <mass value="0.008"/>
      <inertia ixx="0.0000002" ixy="0.0" ixz="0.0" iyy="0.0000002" iyz="0.0" izz="0.0000002"/>
    </inertial>
    <visual>
      <origin rpy="0 0 0" xyz="0 0 0.0005"/>
      <geometry name="rfknuckle_visual">
        <mesh filename="package://sr_description/hand/model/knuckle.dae" scale="0.001 0.001 0.001"/>
      </geometry>
      <material name="LightGrey"/>
    </visual>
    <collision>
      <origin rpy="0 0 0" xyz="0 0 0"/>
      <geometry name="rfknuckle_collision_geom">
        <box size="0.005 0.005 0.005"/>
      </geometry>
    </collision>
  </link>
  <gazebo reference="rfknuckle">
    <sensor name="rfknuckle_contact" type="contact">
      <always_on>1</always_on>
      <update_rate>1000.0</update_rate>
      <contact>
        <collision>rfknuckle_collision</collision>
        <topic>rfknuckle_collision</topic>
      </contact>
      <plugin filename="libgazebo_ros_bumper.so" name="rfknuckle_gazebo_ros_bumper_controller">
        <updateRate>100.0</updateRate>
        <frameName>rfknuckle</frameName>
        <bumperTopicName>contacts/rf/knuckle</bumperTopicName>
      </plugin>
    </sensor>
    <material>Gazebo/Grey</material>
  </gazebo>
  <joint name="RFJ4" type="revolute">
    <parent link="palm"/>
    <child link="rfknuckle"/>
    <!--<origin xyz="0.033 0 0.095" rpy="0 0 0" />-->
    <origin rpy="0 0 0" xyz="-0.011 0 0.095"/>
    <axis xyz="0 1 0"/>
    <limit effort="1000.0" lower="-0.3491" upper="0.3491" velocity="10.0"/>
    <dynamics damping="10.0"/>
  </joint>
  <gazebo reference="RFJ4">
    <provideFeedback>1</provideFeedback>
    <implicitSpringDamper>1</implicitSpringDamper>
  </gazebo>
  <transmission name="rfknuckle_transmission" type="sr_mechanism_model/SimpleTransmission">
    <actuator name="RFJ4"/>
    <joint name="RFJ4"/>
    <mechanicalReduction>1</mechanicalReduction>
    <motorTorqueConstant>1</motorTorqueConstant>
    <pulsesPerRevolution>90000</pulsesPerRevolution>
  </transmission>
  <link name="rfproximal">
    <inertial>
      <mass value="0.014"/>
      <origin xyz="0 0 0.0225"/>
      <inertia ixx="0.0000010" ixy="0.0" ixz="0.0" iyy="0.0000010" iyz="0.0" izz="0.0000005"/>
    </inertial>
    <visual>
      <origin rpy="0 0 0" xyz="0 0 0"/>
      <geometry name="proximal_visual">
        <mesh filename="package://sr_description/hand/model/F3.dae" scale="0.001 0.001 0.001"/>
      </geometry>
      <material name="Grey"/>
    </visual>
    <collision>
      <origin rpy="0 0 0 " xyz="0 0 0.025"/>
      <geometry name="proximal_collision_geom">
        <box size="0.008 0.008 0.04"/>
      </geometry>
    </collision>
  </link>
  <gazebo reference="rfproximal">
    <sensor name="rfproximal_contact" type="contact">
      <always_on>1</always_on>
      <update_rate>1000.0</update_rate>
      <contact>
        <collision>rfproximal_collision</collision>
        <topic>rfproximal_collision</topic>
      </contact>
      <plugin filename="libgazebo_ros_bumper.so" name="rfproximal_gazebo_ros_bumper_controller">
        <updateRate>100.0</updateRate>
        <frameName>rfproximal</frameName>
        <bumperTopicName>contacts/rf/proximal</bumperTopicName>
      </plugin>
    </sensor>
    <material>LightGrey</material>
  </gazebo>
  <joint name="RFJ3" type="revolute">
    <parent link="rfknuckle"/>
    <child link="rfproximal"/>
    <origin rpy="0 0 0" xyz="0 0 0"/>
    <axis xyz="1 0 0"/>
    <limit effort="1000.0" lower="0" upper="1.57079632679" velocity="10.0"/>
    <dynamics damping="10.0"/>
  </joint>
  <gazebo reference="RFJ3">
    <provideFeedback>1</provideFeedback>
    <implicitSpringDamper>1</implicitSpringDamper>
  </gazebo>
  <transmission name="rfproximal_transmission" type="sr_mechanism_model/SimpleTransmission">
    <actuator name="RFJ3"/>
    <joint name="RFJ3"/>
    <mechanicalReduction>1</mechanicalReduction>
    <motorTorqueConstant>1</motorTorqueConstant>
    <pulsesPerRevolution>90000</pulsesPerRevolution>
  </transmission>
  <link name="rfmiddle">
    <inertial>
      <origin rpy="0 0 0" xyz="0 0 0.0125"/>
      <mass value="0.012"/>
      <inertia ixx="0.0000008" ixy="0.0" ixz="0.0" iyy="0.0000008" iyz="0.0" izz="0.0000003"/>
    </inertial>
    <visual>
      <origin rpy="0 0 0" xyz="0 0 0"/>
      <geometry name="rfmiddle_visual">
        <mesh filename="package://sr_description/hand/model/F2.dae" scale="0.001 0.001 0.001"/>
      </geometry>
      <material name="Grey"/>
    </visual>
    <collision>
      <origin rpy="0 0 0" xyz="0 0 0.0125"/>
      <geometry name="rfmiddle_collision_geom">
        <box size="0.008 0.008 0.015"/>
      </geometry>
    </collision>
  </link>
  <gazebo reference="rfmiddle">
    <sensor name="rfmiddle_contact" type="contact">
      <always_on>1</always_on>
      <update_rate>1000.0</update_rate>
      <contact>
        <collision>rfmiddle_collision</collision>
        <topic>rfmiddle_collision</topic>
      </contact>
      <plugin filename="libgazebo_ros_bumper.so" name="rfmiddle_gazebo_ros_bumper_controller">
        <updateRate>100.0</updateRate>
        <frameName>rfmiddle</frameName>
        <bumperTopicName>contacts/rf/middle</bumperTopicName>
      </plugin>
    </sensor>
    <material>LightGrey</material>
  </gazebo>
  <joint name="RFJ2" type="revolute">
    <parent link="rfproximal"/>
    <child link="rfmiddle"/>
    <origin rpy="0 0 0" xyz="0 0 0.045"/>
    <axis xyz="1 0 0"/>
    <limit effort="1000.0" lower="0" upper="1.57079632679" velocity="10.0"/>
    <dynamics damping="10.0"/>
  </joint>
  <gazebo reference="RFJ2">
    <provideFeedback>1</provideFeedback>
    <implicitSpringDamper>1</implicitSpringDamper>
  </gazebo>
  <transmission name="rfmiddle_transmission" type="sr_mechanism_model/J0Transmission">
    <actuator name="RFJ0"/>
    <joint1 name="RFJ1"/>
    <joint2 name="RFJ2"/>
    <mechanicalReduction>1</mechanicalReduction>
    <motorTorqueConstant>1</motorTorqueConstant>
    <pulsesPerRevolution>90000</pulsesPerRevolution>
  </transmission>
  <link name="rfdistal">
    <inertial>
      <mass value="0.010"/>
      <origin xyz="0 0 0.013"/>
      <inertia ixx="0.0000001" ixy="0.0" ixz="0.0" iyy="0.0000001" iyz="0.0" izz="0.0000001"/>
    </inertial>
    <visual>
      <origin rpy="0 0 0" xyz="0 0 0"/>
      <geometry name="rfdistal_visual">
        <mesh filename="package://sr_description/hand/model/F1.dae" scale="0.001 0.001 0.001"/>
      </geometry>
      <material name="Grey"/>
    </visual>
    <collision>
      <origin rpy="0 0 0" xyz="0 0 0"/>
      <geometry name="rfdistal_collision_geom">
        <mesh filename="package://sr_description/hand/model/F1.dae" scale="0.001 0.001 0.001"/>
      </geometry>
    </collision>
  </link>
  <gazebo reference="rfdistal">
    <sensor name="rfdistal_contact" type="contact">
      <always_on>1</always_on>
      <update_rate>1000.0</update_rate>
      <contact>
        <collision>rfdistal_collision</collision>
        <topic>rfdistal_collision</topic>
      </contact>
      <plugin filename="libgazebo_ros_bumper.so" name="rfdistal_gazebo_ros_bumper_controller">
        <updateRate>100.0</updateRate>
        <frameName>rfdistal</frameName>
        <bumperTopicName>contacts/rf/distal</bumperTopicName>
      </plugin>
    </sensor>
    <selfCollide>true</selfCollide>
    <material>LightGrey</material>
  </gazebo>
  <joint name="RFJ1" type="revolute">
    <parent link="rfmiddle"/>
    <child link="rfdistal"/>
    <origin rpy="0 0 0" xyz="0 0 0.025"/>
    <axis xyz="1 0 0"/>
    <limit effort="1000.0" lower="0" upper="1.57079632679" velocity="10.0"/>
    <dynamics damping="10.0"/>
  </joint>
  <gazebo reference="RFJ1">
    <provideFeedback>1</provideFeedback>
    <implicitSpringDamper>1</implicitSpringDamper>
  </gazebo>
  <link name="rftip">
    <inertial>
      <mass value="0.001"/>
      <inertia ixx="0.0000001" ixy="0.0" ixz="0.0" iyy="0.0000001" iyz="0.0" izz="0.0000001"/>
    </inertial>
  </link>
  <joint name="RFtip" type="fixed">
    <parent link="rfdistal"/>
    <child link="rftip"/>
    <origin rpy="0 0 0" xyz="0 0 0.026"/>
  </joint>
  <link name="lfmetacarpal">
    <inertial>
      <origin rpy="0 0 0" xyz="0 0 0.04"/>
      <mass value="0.075"/>
      <inertia ixx="5e-6" ixy="0.0" ixz="0.0" iyy="5e-6" iyz="0.0" izz="3e-6"/>
    </inertial>
    <visual>
      <origin rpy="0 0 0" xyz="0 0 0"/>
      <geometry name="lfmetacarpal_visual">
        <mesh filename="package://sr_description/hand/model/lfmetacarpal.dae" scale="0.001 0.001 0.001"/>
      </geometry>
      <material name="Grey"/>
    </visual>
    <collision>
      <origin rpy="0 0 0" xyz="0 0 0.04"/>
      <geometry name="lfmetacarpal_collision_geom">
        <box size="0.008 0.008 0.03"/>
      </geometry>
    </collision>
  </link>
  <gazebo reference="lfmetacarpal">
    <sensor name="lfmetacarpal_contact" type="contact">
      <always_on>1</always_on>
      <update_rate>1000.0</update_rate>
      <contact>
        <collision>lfmetacarpal_collision</collision>
        <topic>lfmetacarpal_collision</topic>
      </contact>
      <plugin filename="libgazebo_ros_bumper.so" name="lfmetacarpal_gazebo_ros_bumper_controller">
        <updateRate>100.0</updateRate>
        <frameName>lfmetacarpal</frameName>
        <bumperTopicName>contacts/lf/metacarpal</bumperTopicName>
      </plugin>
    </sensor>
    <material>LightGrey</material>
  </gazebo>
  <joint name="LFJ5" type="revolute">
    <parent link="palm"/>
    <child link="lfmetacarpal"/>
    <origin rpy="0 0 0" xyz="-0.033 0 0.02071"/>
    <axis xyz="0.573576436 0 0.819152044"/>
    <limit effort="1000.0" lower="0" upper="0.785398163" velocity="10.0"/>
    <dynamics damping="10.0"/>
  </joint>
  <gazebo reference="LFJ5">
    <provideFeedback>1</provideFeedback>
    <implicitSpringDamper>1</implicitSpringDamper>
  </gazebo>
  <transmission name="lfmetacarpal_transmission" type="sr_mechanism_model/SimpleTransmission">
    <actuator name="LFJ5"/>
    <joint name="LFJ5"/>
    <mechanicalReduction>1</mechanicalReduction>
    <motorTorqueConstant>1</motorTorqueConstant>
    <pulsesPerRevolution>90000</pulsesPerRevolution>
  </transmission>
  <link name="lfknuckle">
    <inertial>
      <origin rpy="0 0 0" xyz="0 0 0"/>
      <!--<insert_block name="origin" /> -->
      <mass value="0.008"/>
      <inertia ixx="0.0000002" ixy="0.0" ixz="0.0" iyy="0.0000002" iyz="0.0" izz="0.0000002"/>
    </inertial>
    <visual>
      <origin rpy="0 0 0" xyz="0 0 0.0005"/>
      <geometry name="lfknuckle_visual">
        <mesh filename="package://sr_description/hand/model/knuckle.dae" scale="0.001 0.001 0.001"/>
      </geometry>
      <material name="LightGrey"/>
    </visual>
    <collision>
      <origin rpy="0 0 0" xyz="0 0 0"/>
      <geometry name="lfknuckle_collision_geom">
        <box size="0.005 0.005 0.005"/>
      </geometry>
    </collision>
  </link>
  <gazebo reference="lfknuckle">
    <sensor name="lfknuckle_contact" type="contact">
      <always_on>1</always_on>
      <update_rate>1000.0</update_rate>
      <contact>
        <collision>lfknuckle_collision</collision>
        <topic>lfknuckle_collision</topic>
      </contact>
      <plugin filename="libgazebo_ros_bumper.so" name="lfknuckle_gazebo_ros_bumper_controller">
        <updateRate>100.0</updateRate>
        <frameName>lfknuckle</frameName>
        <bumperTopicName>contacts/lf/knuckle</bumperTopicName>
      </plugin>
    </sensor>
    <material>Gazebo/Grey</material>
  </gazebo>
  <joint name="LFJ4" type="revolute">
    <parent link="lfmetacarpal"/>
    <child link="lfknuckle"/>
    <!--<origin xyz="0.033 0 0.095" rpy="0 0 0" />-->
    <origin rpy="0 0 0" xyz="0 0 0.06579"/>
    <axis xyz="0 1 0"/>
    <limit effort="1000.0" lower="-0.3491" upper="0.3491" velocity="10.0"/>
    <dynamics damping="10.0"/>
  </joint>
  <gazebo reference="LFJ4">
    <provideFeedback>1</provideFeedback>
    <implicitSpringDamper>1</implicitSpringDamper>
  </gazebo>
  <transmission name="lfknuckle_transmission" type="sr_mechanism_model/SimpleTransmission">
    <actuator name="LFJ4"/>
    <joint name="LFJ4"/>
    <mechanicalReduction>1</mechanicalReduction>
    <motorTorqueConstant>1</motorTorqueConstant>
    <pulsesPerRevolution>90000</pulsesPerRevolution>
  </transmission>
  <link name="lfproximal">
    <inertial>
      <mass value="0.014"/>
      <origin xyz="0 0 0.0225"/>
      <inertia ixx="0.0000010" ixy="0.0" ixz="0.0" iyy="0.0000010" iyz="0.0" izz="0.0000005"/>
    </inertial>
    <visual>
      <origin rpy="0 0 0" xyz="0 0 0"/>
      <geometry name="proximal_visual">
        <mesh filename="package://sr_description/hand/model/F3.dae" scale="0.001 0.001 0.001"/>
      </geometry>
      <material name="Grey"/>
    </visual>
    <collision>
      <origin rpy="0 0 0 " xyz="0 0 0.025"/>
      <geometry name="proximal_collision_geom">
        <box size="0.008 0.008 0.04"/>
      </geometry>
    </collision>
  </link>
  <gazebo reference="lfproximal">
    <sensor name="lfproximal_contact" type="contact">
      <always_on>1</always_on>
      <update_rate>1000.0</update_rate>
      <contact>
        <collision>lfproximal_collision</collision>
        <topic>lfproximal_collision</topic>
      </contact>
      <plugin filename="libgazebo_ros_bumper.so" name="lfproximal_gazebo_ros_bumper_controller">
        <updateRate>100.0</updateRate>
        <frameName>lfproximal</frameName>
        <bumperTopicName>contacts/lf/proximal</bumperTopicName>
      </plugin>
    </sensor>
    <material>LightGrey</material>
  </gazebo>
  <joint name="LFJ3" type="revolute">
    <parent link="lfknuckle"/>
    <child link="lfproximal"/>
    <origin rpy="0 0 0" xyz="0 0 0"/>
    <axis xyz="1 0 0"/>
    <limit effort="1000.0" lower="0" upper="1.57079632679" velocity="10.0"/>
    <dynamics damping="10.0"/>
  </joint>
  <gazebo reference="LFJ3">
    <provideFeedback>1</provideFeedback>
    <implicitSpringDamper>1</implicitSpringDamper>
  </gazebo>
  <transmission name="lfproximal_transmission" type="sr_mechanism_model/SimpleTransmission">
    <actuator name="LFJ3"/>
    <joint name="LFJ3"/>
    <mechanicalReduction>1</mechanicalReduction>
    <motorTorqueConstant>1</motorTorqueConstant>
    <pulsesPerRevolution>90000</pulsesPerRevolution>
  </transmission>
  <link name="lfmiddle">
    <inertial>
      <origin rpy="0 0 0" xyz="0 0 0.0125"/>
      <mass value="0.012"/>
      <inertia ixx="0.0000008" ixy="0.0" ixz="0.0" iyy="0.0000008" iyz="0.0" izz="0.0000003"/>
    </inertial>
    <visual>
      <origin rpy="0 0 0" xyz="0 0 0"/>
      <geometry name="lfmiddle_visual">
        <mesh filename="package://sr_description/hand/model/F2.dae" scale="0.001 0.001 0.001"/>
      </geometry>
      <material name="Grey"/>
    </visual>
    <collision>
      <origin rpy="0 0 0" xyz="0 0 0.0125"/>
      <geometry name="lfmiddle_collision_geom">
        <box size="0.008 0.008 0.015"/>
      </geometry>
    </collision>
  </link>
  <gazebo reference="lfmiddle">
    <sensor name="lfmiddle_contact" type="contact">
      <always_on>1</always_on>
      <update_rate>1000.0</update_rate>
      <contact>
        <collision>lfmiddle_collision</collision>
        <topic>lfmiddle_collision</topic>
      </contact>
      <plugin filename="libgazebo_ros_bumper.so" name="lfmiddle_gazebo_ros_bumper_controller">
        <updateRate>100.0</updateRate>
        <frameName>lfmiddle</frameName>
        <bumperTopicName>contacts/lf/middle</bumperTopicName>
      </plugin>
    </sensor>
    <material>LightGrey</material>
  </gazebo>
  <joint name="LFJ2" type="revolute">
    <parent link="lfproximal"/>
    <child link="lfmiddle"/>
    <origin rpy="0 0 0" xyz="0 0 0.045"/>
    <axis xyz="1 0 0"/>
    <limit effort="1000.0" lower="0" upper="1.57079632679" velocity="10.0"/>
    <dynamics damping="10.0"/>
  </joint>
  <gazebo reference="LFJ2">
    <provideFeedback>1</provideFeedback>
    <implicitSpringDamper>1</implicitSpringDamper>
  </gazebo>
  <transmission name="lfmiddle_transmission" type="sr_mechanism_model/J0Transmission">
    <actuator name="LFJ0"/>
    <joint1 name="LFJ1"/>
    <joint2 name="LFJ2"/>
    <mechanicalReduction>1</mechanicalReduction>
    <motorTorqueConstant>1</motorTorqueConstant>
    <pulsesPerRevolution>90000</pulsesPerRevolution>
  </transmission>
  <link name="lfdistal">
    <inertial>
      <mass value="0.010"/>
      <origin xyz="0 0 0.013"/>
      <inertia ixx="0.0000001" ixy="0.0" ixz="0.0" iyy="0.0000001" iyz="0.0" izz="0.0000001"/>
    </inertial>
    <visual>
      <origin rpy="0 0 0" xyz="0 0 0"/>
      <geometry name="lfdistal_visual">
        <mesh filename="package://sr_description/hand/model/F1.dae" scale="0.001 0.001 0.001"/>
      </geometry>
      <material name="Grey"/>
    </visual>
    <collision>
      <origin rpy="0 0 0" xyz="0 0 0"/>
      <geometry name="lfdistal_collision_geom">
        <mesh filename="package://sr_description/hand/model/F1.dae" scale="0.001 0.001 0.001"/>
      </geometry>
    </collision>
  </link>
  <gazebo reference="lfdistal">
    <sensor name="lfdistal_contact" type="contact">
      <always_on>1</always_on>
      <update_rate>1000.0</update_rate>
      <contact>
        <collision>lfdistal_collision</collision>
        <topic>lfdistal_collision</topic>
      </contact>
      <plugin filename="libgazebo_ros_bumper.so" name="lfdistal_gazebo_ros_bumper_controller">
        <updateRate>100.0</updateRate>
        <frameName>lfdistal</frameName>
        <bumperTopicName>contacts/lf/distal</bumperTopicName>
      </plugin>
    </sensor>
    <selfCollide>true</selfCollide>
    <material>LightGrey</material>
  </gazebo>
  <joint name="LFJ1" type="revolute">
    <parent link="lfmiddle"/>
    <child link="lfdistal"/>
    <origin rpy="0 0 0" xyz="0 0 0.025"/>
    <axis xyz="1 0 0"/>
    <limit effort="1000.0" lower="0" upper="1.57079632679" velocity="10.0"/>
    <dynamics damping="10.0"/>
  </joint>
  <gazebo reference="LFJ1">
    <provideFeedback>1</provideFeedback>
    <implicitSpringDamper>1</implicitSpringDamper>
  </gazebo>
  <link name="lftip">
    <inertial>
      <mass value="0.001"/>
      <inertia ixx="0.0000001" ixy="0.0" ixz="0.0" iyy="0.0000001" iyz="0.0" izz="0.0000001"/>
    </inertial>
  </link>
  <joint name="LFtip" type="fixed">
    <parent link="lfdistal"/>
    <child link="lftip"/>
    <origin rpy="0 0 0" xyz="0 0 0.026"/>
  </joint>
  <link name="thbase">
    <inertial>
      <mass value="0.010"/>
      <origin rpy="0 0 0" xyz="0 0 0"/>
      <inertia ixx="1e-6" ixy="0.0" ixz="0.0" iyy="1e-6" iyz="0.0" izz="1e-6"/>
    </inertial>
    <visual>
      <origin rpy="0 0 0" xyz="0 0 0"/>
      <geometry name="thbase_visual">
        <box size="0.001 0.001 0.001"/>
      </geometry>
      <material name="shadow_thbase_material">
        <color rgba="0.5 0.5 0.5 1.0"/>
      </material>
    </visual>
    <collision>
      <origin rpy="0 0 0 " xyz="0 0 0"/>
      <geometry name="thbase_collision_geom">
        <box size="0.001 0.001 0.001"/>
      </geometry>
    </collision>
  </link>
  <gazebo reference="thbase">
    <sensor name="thbase_contact" type="contact">
      <always_on>1</always_on>
      <update_rate>1000.0</update_rate>
      <contact>
        <collision>thbase_collision</collision>
        <topic>thbase_collision</topic>
      </contact>
      <plugin filename="libgazebo_ros_bumper.so" name="thbase_gazebo_ros_bumper_controller">
        <updateRate>100.0</updateRate>
        <frameName>thbase</frameName>
        <bumperTopicName>contacts/th/base</bumperTopicName>
      </plugin>
    </sensor>
    <material>LightGrey</material>
  </gazebo>
  <joint name="THJ5" type="revolute">
    <parent link="palm"/>
    <child link="thbase"/>
    <origin rpy="0 0.785398163397 0" xyz="0.034 -0.0085 0.029"/>
    <axis xyz="0 0 -1.0"/>
    <limit effort="1000.0" lower="-1.047" upper="1.047" velocity="10.0"/>
    <dynamics damping="10.0"/>
  </joint>
  <gazebo reference="THJ5">
    <provideFeedback>1</provideFeedback>
    <implicitSpringDamper>1</implicitSpringDamper>
  </gazebo>
  <transmission name="thbase_transmission" type="sr_mechanism_model/SimpleTransmission">
    <actuator name="THJ5"/>
    <joint name="THJ5"/>
    <mechanicalReduction>1</mechanicalReduction>
    <motorTorqueConstant>1</motorTorqueConstant>
    <pulsesPerRevolution>90000</pulsesPerRevolution>
  </transmission>
  <link name="thproximal">
    <inertial>
      <mass value="0.016"/>
      <origin rpy="0 0 0" xyz="0 0 0.019"/>
      <inertia ixx="1e-6" ixy="0.0" ixz="0.0" iyy="1e-6" iyz="0.0" izz="1e-6"/>
    </inertial>
    <visual>
      <origin rpy="0 0 0" xyz="0 0 0"/>
      <geometry name="thproximal_visual">
        <mesh filename="package://sr_description/hand/model/TH3_z.dae" scale="0.001 0.001 0.001"/>
      </geometry>
      <material name="shadow_thproximal_material">
        <color rgba="0.2 0.2 0.2 1.0"/>
      </material>
    </visual>
    <collision>
      <origin rpy="0 0 0" xyz="0 0 0.019"/>
      <geometry name="thproximal_collision_geom">
        <box size="0.008 0.008 0.020"/>
      </geometry>
    </collision>
  </link>
  <gazebo reference="thproximal">
    <sensor name="thproximal_contact" type="contact">
      <always_on>1</always_on>
      <update_rate>1000.0</update_rate>
      <contact>
        <collision>thproximal_collision</collision>
        <topic>thproximal_collision</topic>
      </contact>
      <plugin filename="libgazebo_ros_bumper.so" name="thproximal_gazebo_ros_bumper_controller">
        <updateRate>100.0</updateRate>
        <frameName>thproximal</frameName>
        <bumperTopicName>contacts/th/proximal</bumperTopicName>
      </plugin>
    </sensor>
    <material>LightGrey</material>
  </gazebo>
  <joint name="THJ4" type="revolute">
    <parent link="thbase"/>
    <child link="thproximal"/>
    <origin rpy="0 0 0" xyz="0 0 0"/>
    <axis xyz="1.0 0 0"/>
    <limit effort="1000.0" lower="0" upper="1.309" velocity="10.0"/>
    <dynamics damping="10.0"/>
  </joint>
  <gazebo reference="THJ4">
    <provideFeedback>1</provideFeedback>
    <implicitSpringDamper>1</implicitSpringDamper>
  </gazebo>
  <transmission name="thproximal_transmission" type="sr_mechanism_model/SimpleTransmission">
    <actuator name="THJ4"/>
    <joint name="THJ4"/>
    <mechanicalReduction>1</mechanicalReduction>
    <motorTorqueConstant>1</motorTorqueConstant>
    <pulsesPerRevolution>90000</pulsesPerRevolution>
  </transmission>
  <link name="thhub">
    <inertial>
      <mass value="0.002"/>
      <origin rpy="0 0 0" xyz="0 0 0"/>
      <inertia ixx="1e-7" ixy="0.0" ixz="0.0" iyy="1e-7" iyz="0.0" izz="1e-7"/>
    </inertial>
    <visual>
      <origin rpy="0 0 0" xyz="0 0 0"/>
      <geometry name="thhub_visual">
        <box size="0.001 0.001 0.001"/>
      </geometry>
      <material name="shadow_thhub_material">
        <color rgba="0.7 0.7 0.7 1.0"/>
      </material>
    </visual>
    <collision>
      <origin rpy="0 0 0 " xyz="0 0 0"/>
      <geometry name="thhub_collision_geom">
        <box size="0.001 0.001 0.001"/>
      </geometry>
    </collision>
  </link>
  <gazebo reference="thhub">
    <sensor name="thhub_contact" type="contact">
      <always_on>1</always_on>
      <update_rate>1000.0</update_rate>
      <contact>
        <collision>thhub_collision</collision>
        <topic>thhub_collision</topic>
      </contact>
      <plugin filename="libgazebo_ros_bumper.so" name="thhub_gazebo_ros_bumper_controller">
        <updateRate>100.0</updateRate>
        <frameName>thhub</frameName>
        <bumperTopicName>contacts/th/hub</bumperTopicName>
      </plugin>
    </sensor>
    <material>LightGrey</material>
  </gazebo>
  <joint name="THJ3" type="revolute">
    <parent link="thproximal"/>
    <child link="thhub"/>
    <origin rpy="0 0 0" xyz="0 0 0.038"/>
    <axis xyz="1 0 0"/>
    <limit effort="1000.0" lower="-0.2618" upper="0.2618" velocity="10.0"/>
    <dynamics damping="10.0"/>
  </joint>
  <gazebo reference="THJ3">
    <provideFeedback>1</provideFeedback>
    <implicitSpringDamper>1</implicitSpringDamper>
  </gazebo>
  <transmission name="thhub_transmission" type="sr_mechanism_model/SimpleTransmission">
    <actuator name="THJ3"/>
    <joint name="THJ3"/>
    <mechanicalReduction>1</mechanicalReduction>
    <motorTorqueConstant>1</motorTorqueConstant>
    <pulsesPerRevolution>90000</pulsesPerRevolution>
  </transmission>
  <link name="thmiddle">
    <inertial>
      <mass value="0.016"/>
      <origin rpy="0 0 0" xyz="0 0 0.016"/>
      <inertia ixx="1e-6" ixy="0.0" ixz="0.0" iyy="1e-6" iyz="0.0" izz="1e-6"/>
    </inertial>
    <visual>
      <origin rpy="0 0 0" xyz="0 0 0"/>
      <geometry name="thmiddle_visual">
        <mesh filename="package://sr_description/hand/model/TH2_z.dae" scale="0.001 0.001 0.001"/>
      </geometry>
      <material name="shadow_thmiddle_material">
        <color rgba="0.2 0.2 0.2 1.0"/>
      </material>
    </visual>
    <collision>
      <origin rpy="0 0 0 " xyz="0 0 0.016"/>
      <geometry name="thmiddle_collision_geom">
        <box size="0.008 0.008 0.015"/>
      </geometry>
    </collision>
  </link>
  <gazebo reference="thmiddle">
    <sensor name="thmiddle_contact" type="contact">
      <always_on>1</always_on>
      <update_rate>1000.0</update_rate>
      <contact>
        <collision>thmiddle_collision</collision>
        <topic>thmiddle_collision</topic>
      </contact>
      <plugin filename="libgazebo_ros_bumper.so" name="thmiddle_gazebo_ros_bumper_controller">
        <updateRate>100.0</updateRate>
        <frameName>thmiddle</frameName>
        <bumperTopicName>contacts/th/middle</bumperTopicName>
      </plugin>
    </sensor>
    <material>LightGrey</material>
  </gazebo>
  <joint name="THJ2" type="revolute">
    <parent link="thhub"/>
    <child link="thmiddle"/>
    <origin rpy="0 0 0" xyz="0 0 0"/>
    <axis xyz="0 -1 0"/>
    <limit effort="1000.0" lower="-0.6981" upper="0.6981" velocity="10.0"/>
    <dynamics damping="10.0"/>
  </joint>
  <gazebo reference="THJ2">
    <provideFeedback>1</provideFeedback>
    <implicitSpringDamper>1</implicitSpringDamper>
  </gazebo>
  <transmission name="thmiddle_transmission" type="sr_mechanism_model/SimpleTransmission">
    <actuator name="THJ2"/>
    <joint name="THJ2"/>
    <mechanicalReduction>1</mechanicalReduction>
    <motorTorqueConstant>1</motorTorqueConstant>
    <pulsesPerRevolution>90000</pulsesPerRevolution>
  </transmission>
  <link name="thdistal">
    <inertial>
      <mass value="0.016"/>
      <origin rpy="0 0 0" xyz="0 0 0.01375"/>
      <inertia ixx="9e-7" ixy="0.0" ixz="0.0" iyy="9e-7" iyz="0.0" izz="9e-7"/>
    </inertial>
    <visual>
      <origin rpy="0 0 0" xyz="0 0 0"/>
      <geometry name="thdistal_visual">
        <mesh filename="package://sr_description/hand/model/TH1_z.dae" scale="0.001 0.001 0.001"/>
      </geometry>
      <material name="shadow_thmiddle_material">
        <color rgba="0.2 0.2 0.2 1.0"/>
      </material>
    </visual>
    <collision>
      <origin rpy="0 0 0 " xyz="0 0 0"/>
      <geometry name="thmiddle_collision_geom">
        <mesh filename="package://sr_description/hand/model/TH1_z.dae" scale="0.001 0.001 0.001"/>
        <!--	  <box size="0.015 0.015 0.015" /> -->
      </geometry>
    </collision>
  </link>
  <gazebo reference="thdistal">
    <sensor name="thdistal_contact" type="contact">
      <always_on>1</always_on>
      <update_rate>1000.0</update_rate>
      <contact>
        <collision>thdistal_collision</collision>
        <topic>thdistal_collision</topic>
      </contact>
      <plugin filename="libgazebo_ros_bumper.so" name="thdistal_gazebo_ros_bumper_controller">
        <updateRate>100.0</updateRate>
        <frameName>thdistal</frameName>
        <bumperTopicName>contacts/th/distal</bumperTopicName>
      </plugin>
    </sensor>
    <material>LightGrey</material>
    <selfCollide>true</selfCollide>
  </gazebo>
  <joint name="THJ1" type="revolute">
    <parent link="thmiddle"/>
    <child link="thdistal"/>
    <origin rpy="0 0 -1.570796327" xyz="0 0 0.032"/>
    <axis xyz="1 0 0"/>
    <limit effort="1000.0" lower="0" upper="1.571" velocity="10.0"/>
    <dynamics damping="10.0"/>
  </joint>
  <gazebo reference="THJ1">
    <provideFeedback>1</provideFeedback>
    <implicitSpringDamper>1</implicitSpringDamper>
  </gazebo>
  <link name="thtip">
    <inertial>
      <mass value="0.001"/>
      <inertia ixx="1e-7" ixy="0.0" ixz="0.0" iyy="1e-7" iyz="0.0" izz="1e-7"/>
    </inertial>
  </link>
  <joint name="thtip" type="fixed">
    <parent link="thdistal"/>
    <child link="thtip"/>
    <origin rpy="0 0 0" xyz="0 0 0.0275"/>
  </joint>
  <transmission name="thdistal_transmission" type="sr_mechanism_model/SimpleTransmission">
    <actuator name="THJ1"/>
    <joint name="THJ1"/>
    <mechanicalReduction>1</mechanicalReduction>
    <motorTorqueConstant>1</motorTorqueConstant>
    <pulsesPerRevolution>90000</pulsesPerRevolution>
  </transmission>
</robot>
